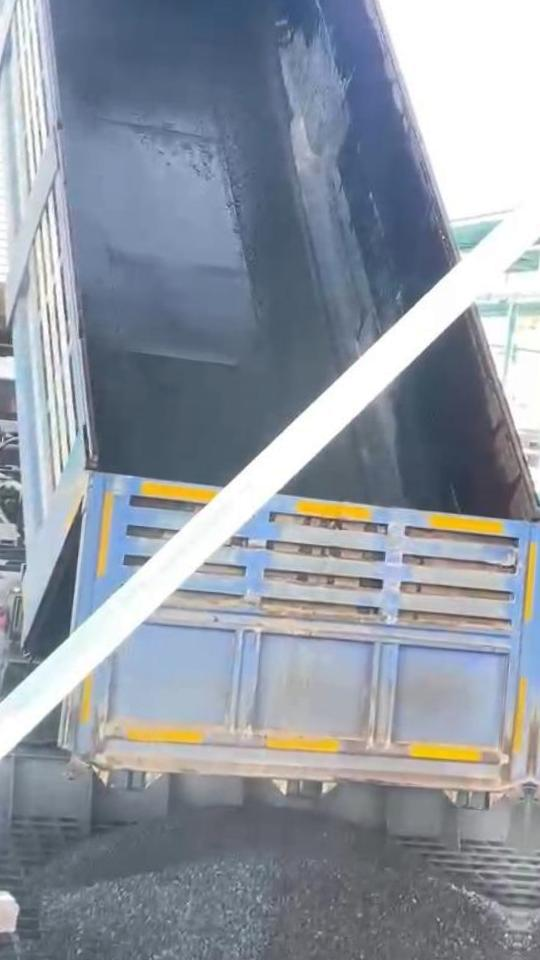gravel: (42, 808, 516, 960)
